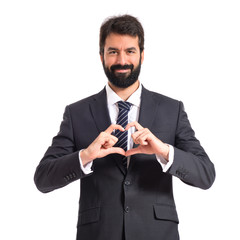young: (86, 4, 154, 84)
